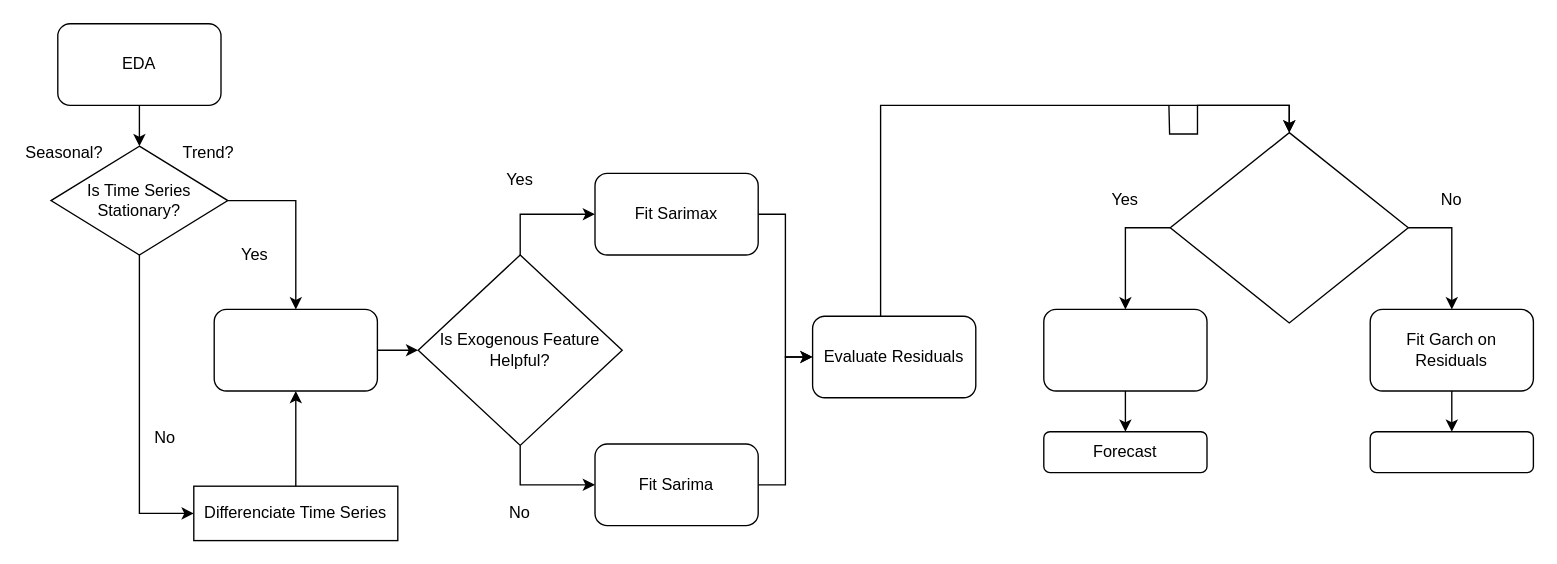
This 1557x564 diagram has some shape labels left out. The shapes that lost their labels are listed below. From the top down, each one's box as (x1, y1, x2, y2) in pixels, then its label:
(1169, 131, 1408, 323): Normally Distributed? Homoskedastic?
(213, 308, 377, 391): Granger Causality
(1042, 308, 1207, 391): Evaluate Model
(1369, 430, 1533, 473): Predict Volatility
